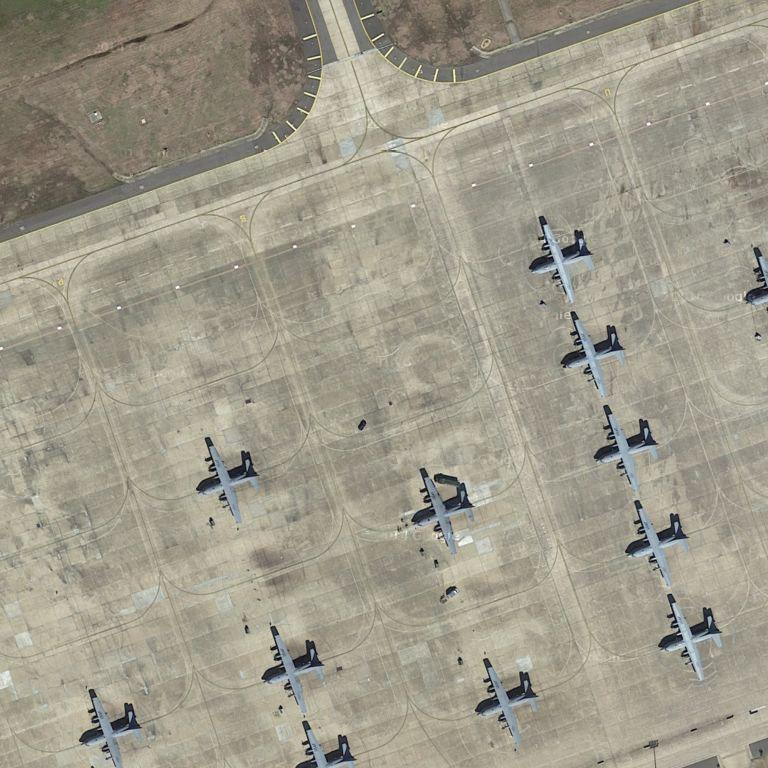C-130: (659, 594, 726, 685), (529, 217, 592, 309), (592, 407, 659, 493), (476, 659, 542, 746), (560, 308, 625, 396), (408, 473, 474, 556), (625, 497, 688, 583), (197, 440, 259, 526), (259, 629, 324, 710), (79, 687, 143, 767)
